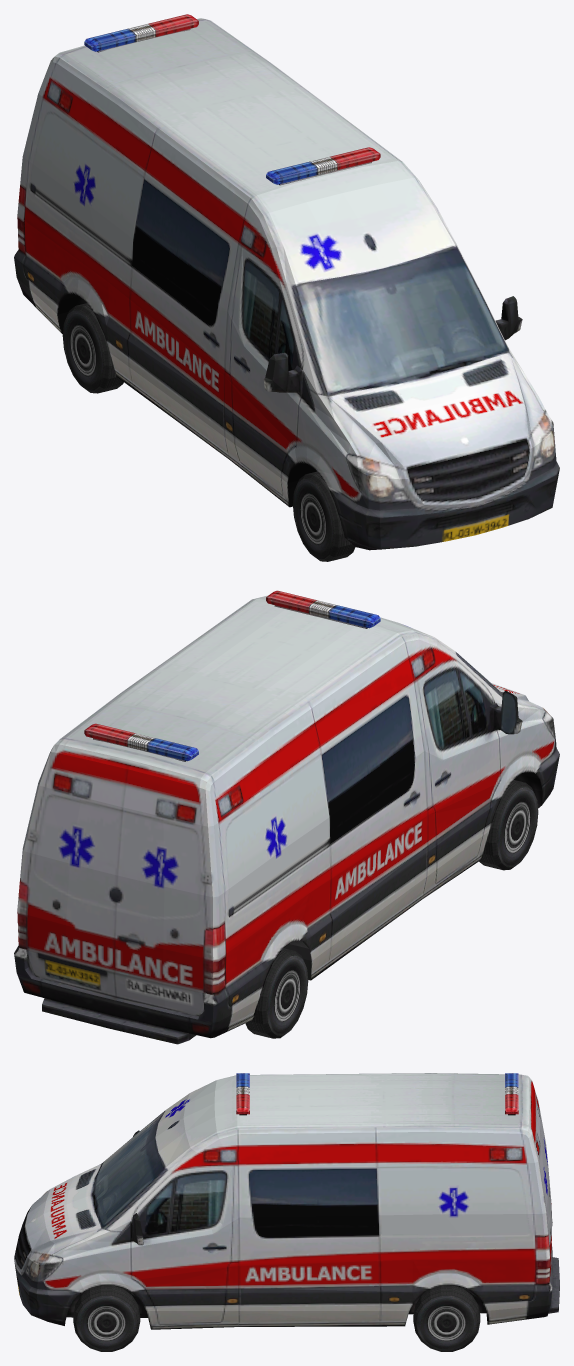
File: AmbulancePrefab.obj
3 views of the same model, one above another, from view 1: azimuth 30°, elevation 25°; view 2: azimuth 150°, elevation 25°; view 3: azimuth 270°, elevation 25° (orthographic). The views are drawn at different scales.
Visible parts, largest first — view 1: GLTF_6, GLTF_1, GLTF_2, GLTF, GLTF_5; view 2: GLTF_6, GLTF_2, GLTF_1, GLTF, GLTF_5; view 3: GLTF_6, GLTF_4, GLTF_3, GLTF_5, GLTF.
Part boxes in pixels (x1,y1,x2,y2): GLTF_6: (14,18,559,550); GLTF_1: (292,471,355,561); GLTF_2: (62,303,123,393); GLTF: (266,147,380,185); GLTF_5: (84,14,198,52); GLTF_6: (14,595,559,1044); GLTF_2: (245,948,308,1038); GLTF_1: (479,780,538,870); GLTF: (266,590,380,628); GLTF_5: (84,723,198,761); GLTF_6: (14,1073,559,1329); GLTF_4: (73,1285,140,1351); GLTF_3: (413,1285,480,1351); GLTF_5: (505,1073,518,1115); GLTF: (236,1073,249,1115).
Bounding box in the file's own units: 8.04 × 9.17 × 20.09.
2 materials, 2 textured.
